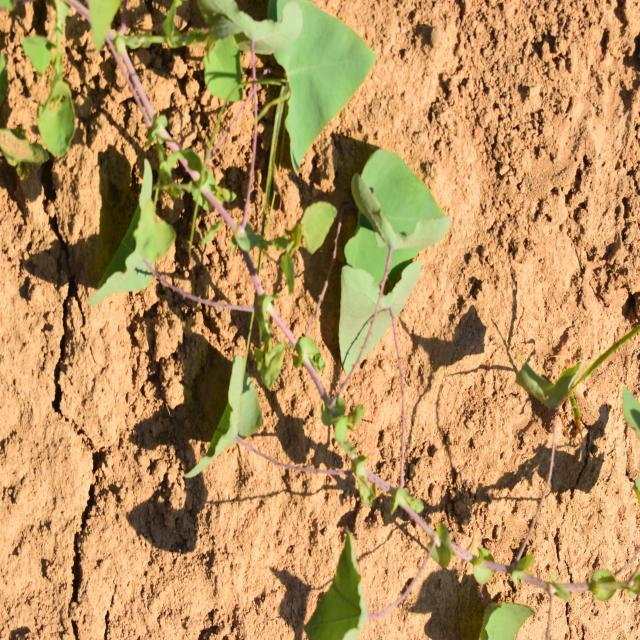Asiatic_Smartweed: (335, 154, 445, 409), (266, 0, 382, 177)
